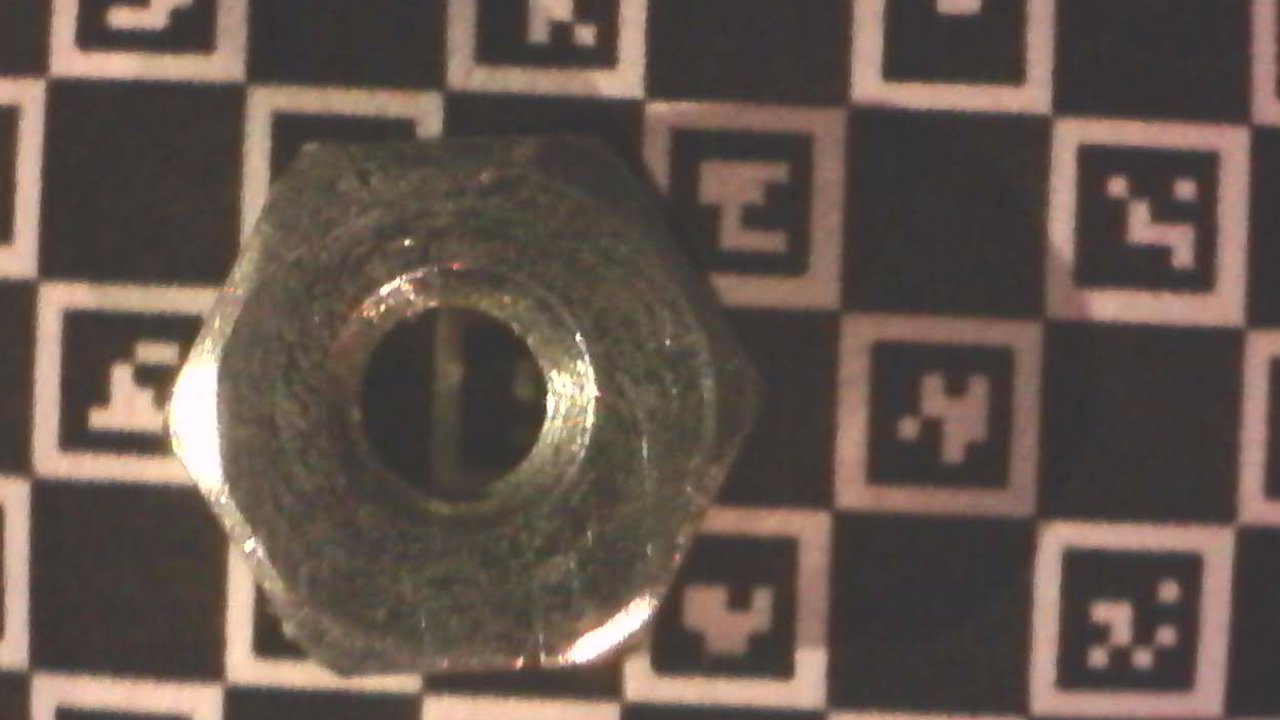Bolt: (159, 129, 772, 682)
